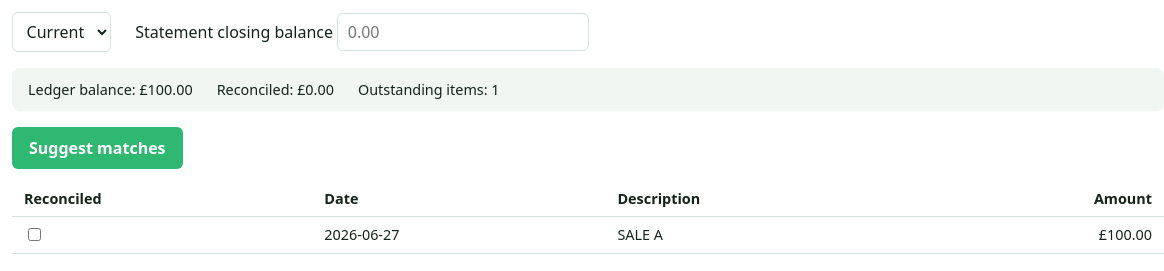
Scenario: ReconciliationScreen › lists ledger entries and reconciles one
Expected: the text "SALE A" is shown, [606, 216, 921, 254]
Click the checkbox named "Reconcile SALE A".
click(34, 234)  # box [28, 228, 41, 241]
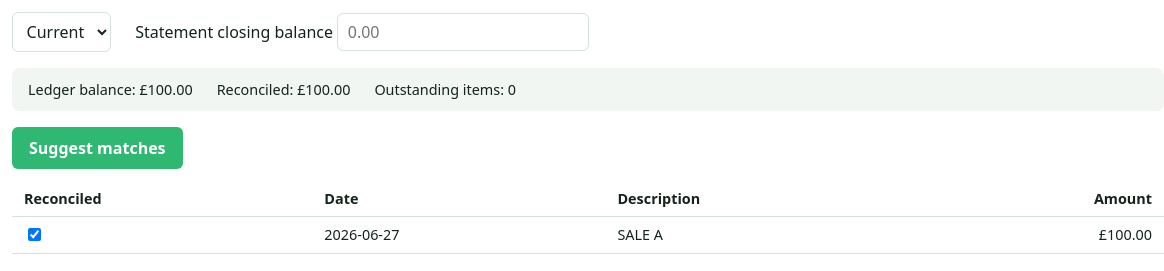
Result: the checkbox named "Reconcile SALE A" is checked at [28, 228, 41, 241]
Result: the text "Outstanding items: 0" is shown at [374, 80, 516, 99]
